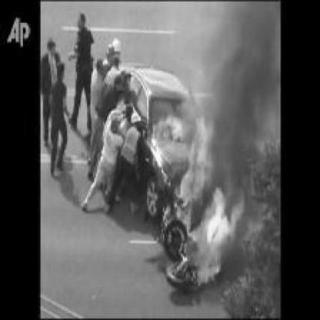Fire: (146, 124, 250, 284)
